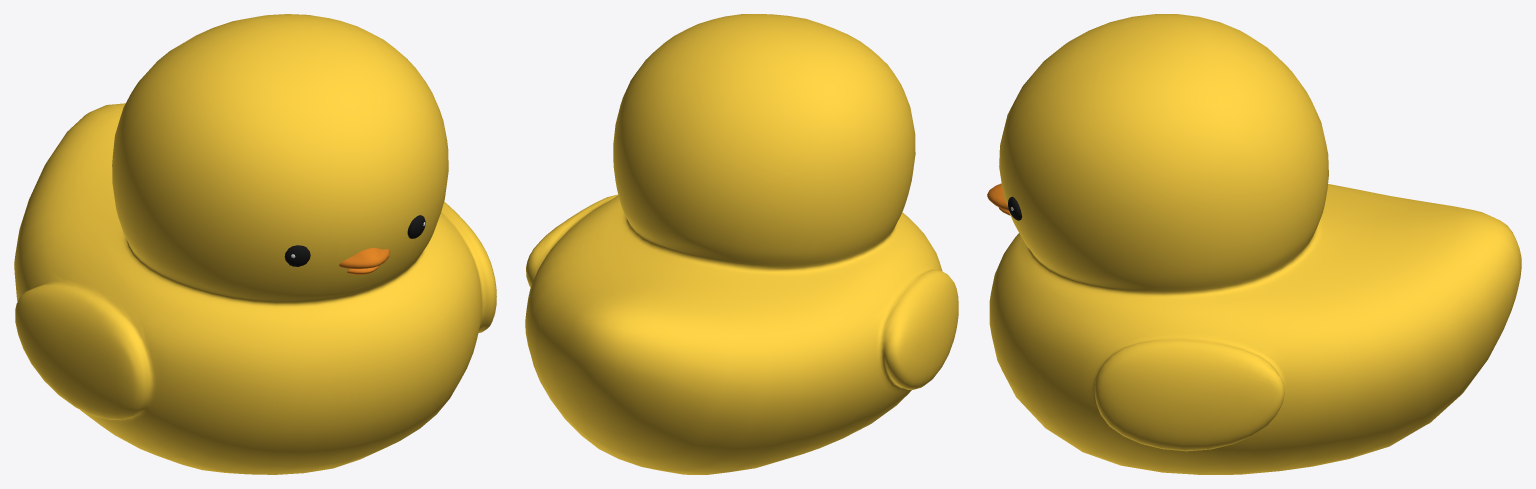
The model's file is SM_RubberDuck_LOD0.fbx.
3 views of the same model, side by side, from view 1: azimuth 30°, elevation 25°; view 2: azimuth 150°, elevation 25°; view 3: azimuth 270°, elevation 25° (orthographic). The views are drawn at different scales.
Parts seen in each view (by area): view 1: SM_RubberDuck_LOD0; view 2: SM_RubberDuck_LOD0; view 3: SM_RubberDuck_LOD0.
Boxes of the visible parts, x1,y1,x2,y2 form: SM_RubberDuck_LOD0: (14,14,496,474); SM_RubberDuck_LOD0: (525,14,958,474); SM_RubberDuck_LOD0: (987,14,1521,474).
Size of the model in its own units: 15.17 by 14.53 by 17.25.
